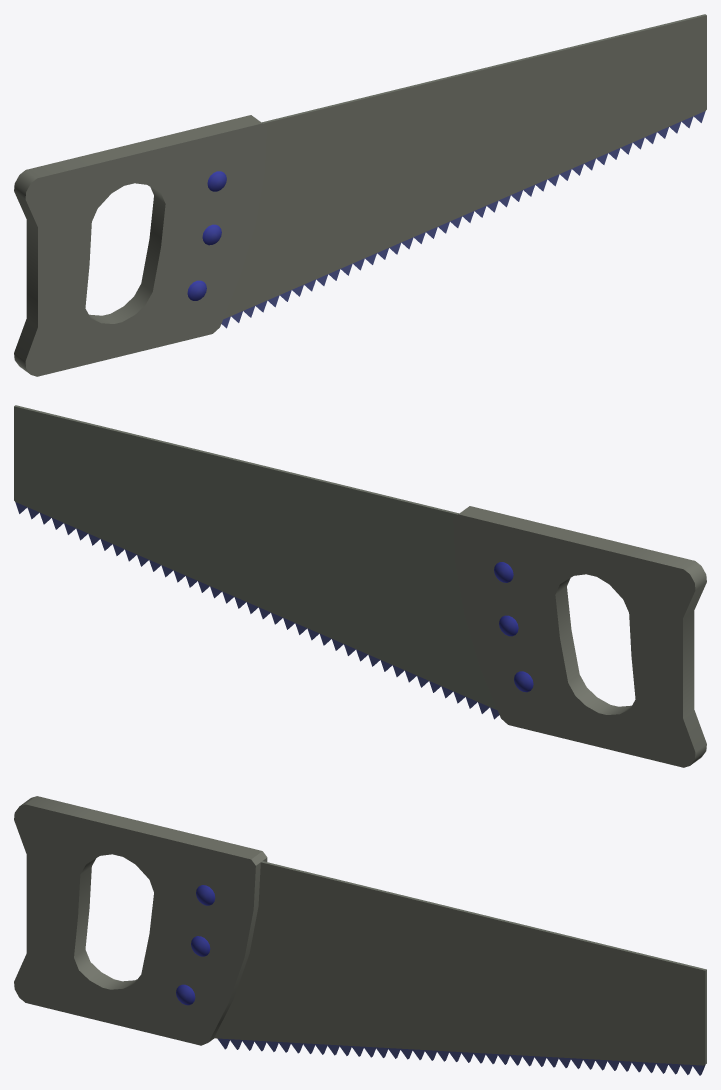
File: Säge.fbx
3 views of the same model, one above another, from view 1: azimuth 30°, elevation 25°; view 2: azimuth 150°, elevation 25°; view 3: azimuth 330°, elevation 25° (orthographic).
Visible parts, largest first — view 1: Säge; view 2: Säge; view 3: Säge.
Boxes of the visible parts, x1=… form: Säge: x1=14, y1=14, x2=706, y2=376; Säge: x1=14, y1=405, x2=706, y2=767; Säge: x1=14, y1=796, x2=706, y2=1075.
Bounding box in the file's own units: 68.76 × 19.26 × 2.76.
